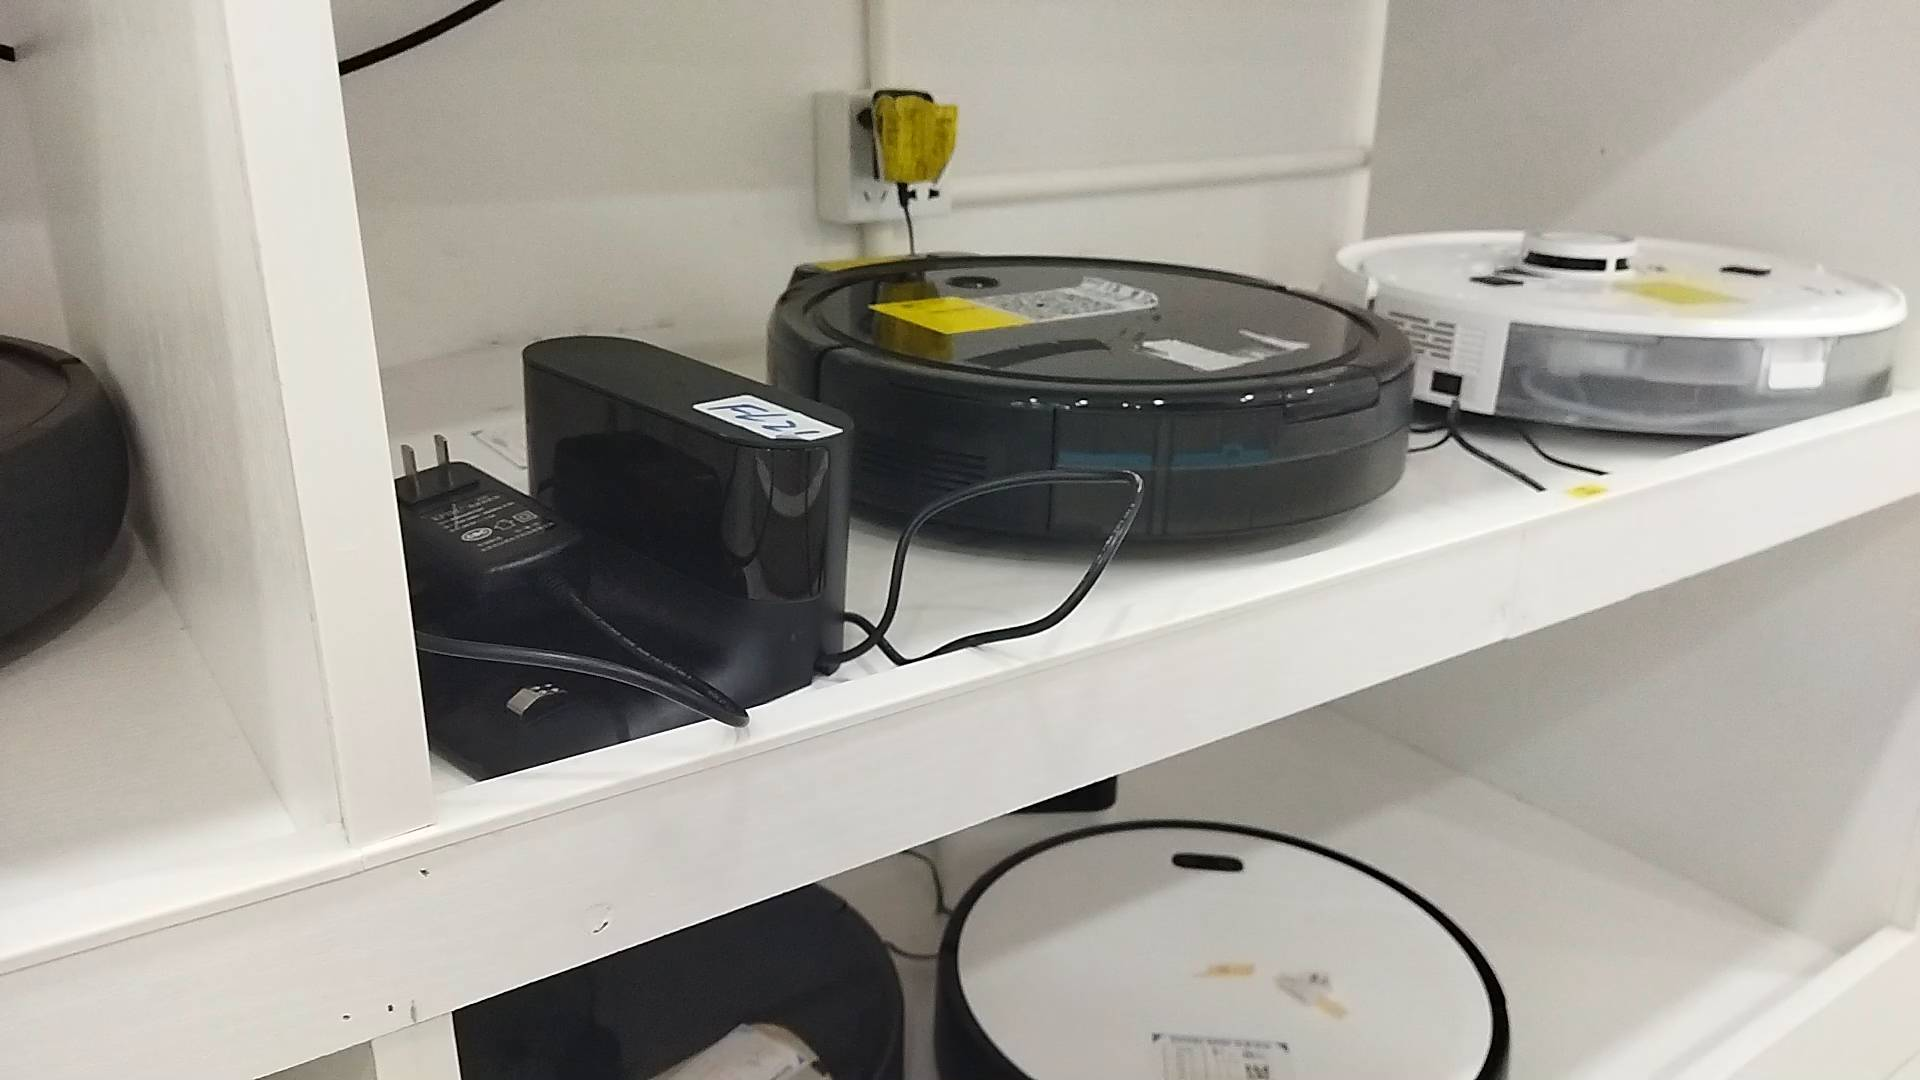recharge seat: (378, 336, 858, 781)
